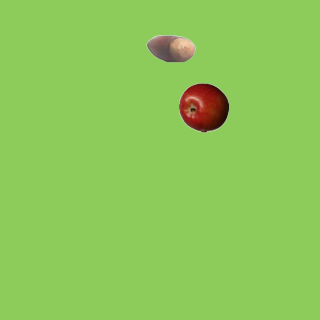Apple Braeburn: (178, 82, 228, 132)
Hazelnut: (145, 23, 195, 73)
